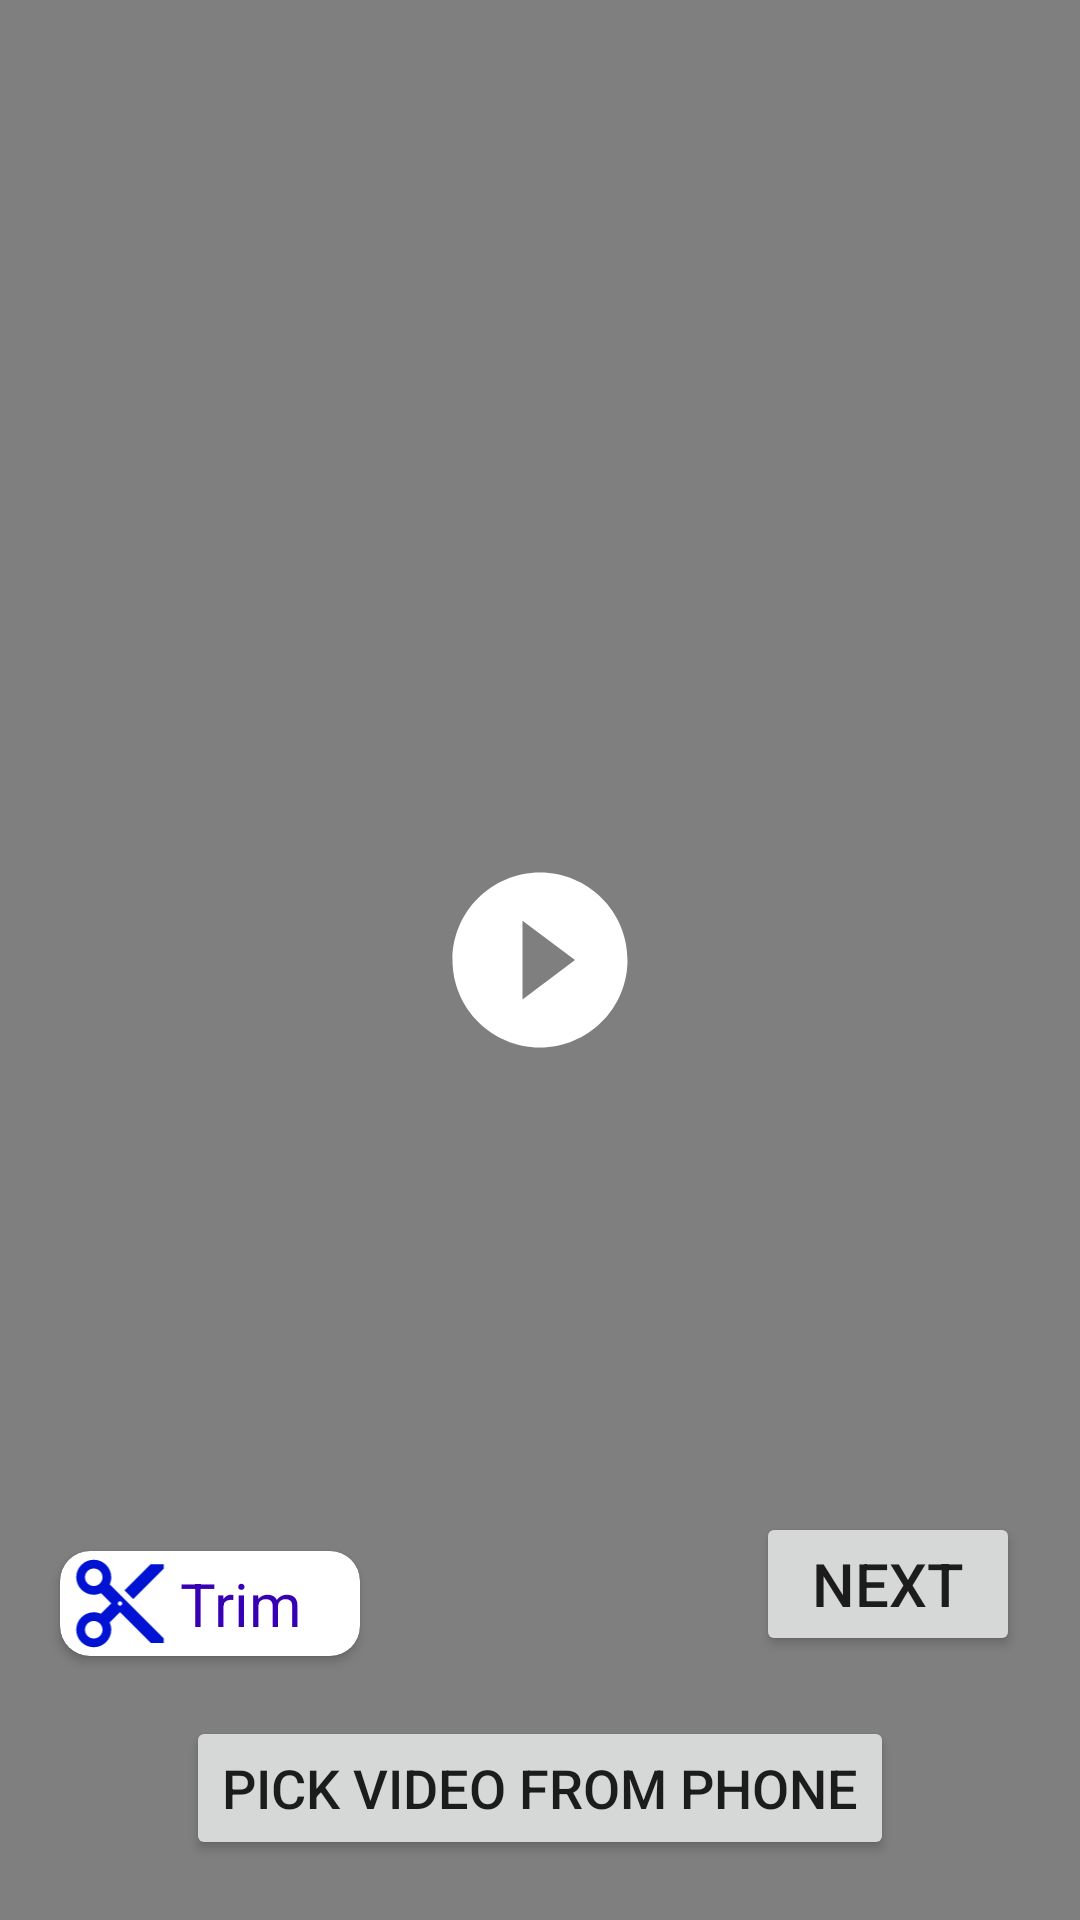

Screen size 1080w x 1920h. Icon name, then its box in pixels as [x1, y1, x2, y2]:
play: [452, 872, 628, 1048]
